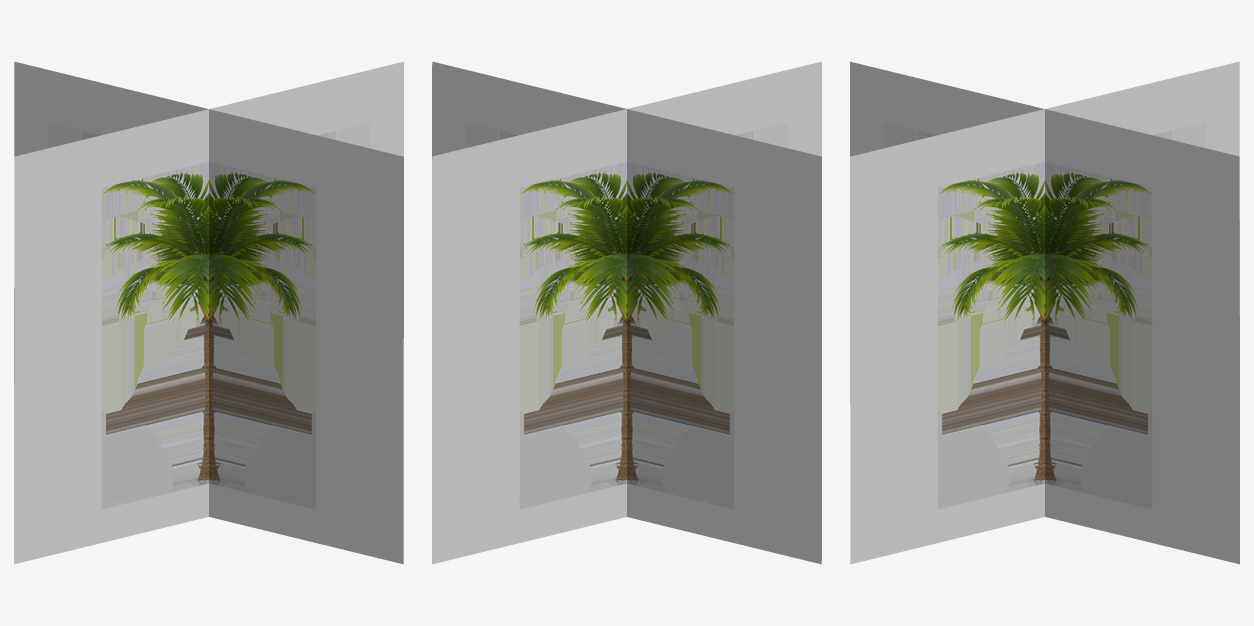
File: Palm Tree (48).fbx
3 views of the same model, side by side, from view 1: azimuth 30°, elevation 25°; view 2: azimuth 150°, elevation 25°; view 3: azimuth 270°, elevation 25° (orthographic).
Parts seen in each view (by area): view 1: Palm_Tree__48_; view 2: Palm_Tree__48_; view 3: Palm_Tree__48_.
Boxes of the visible parts, <box> form: Palm_Tree__48_: <box>14,61,403,564</box>; Palm_Tree__48_: <box>432,61,821,564</box>; Palm_Tree__48_: <box>850,61,1239,564</box>.
Bounding box in the file's own units: 980 × 980 × 849.
